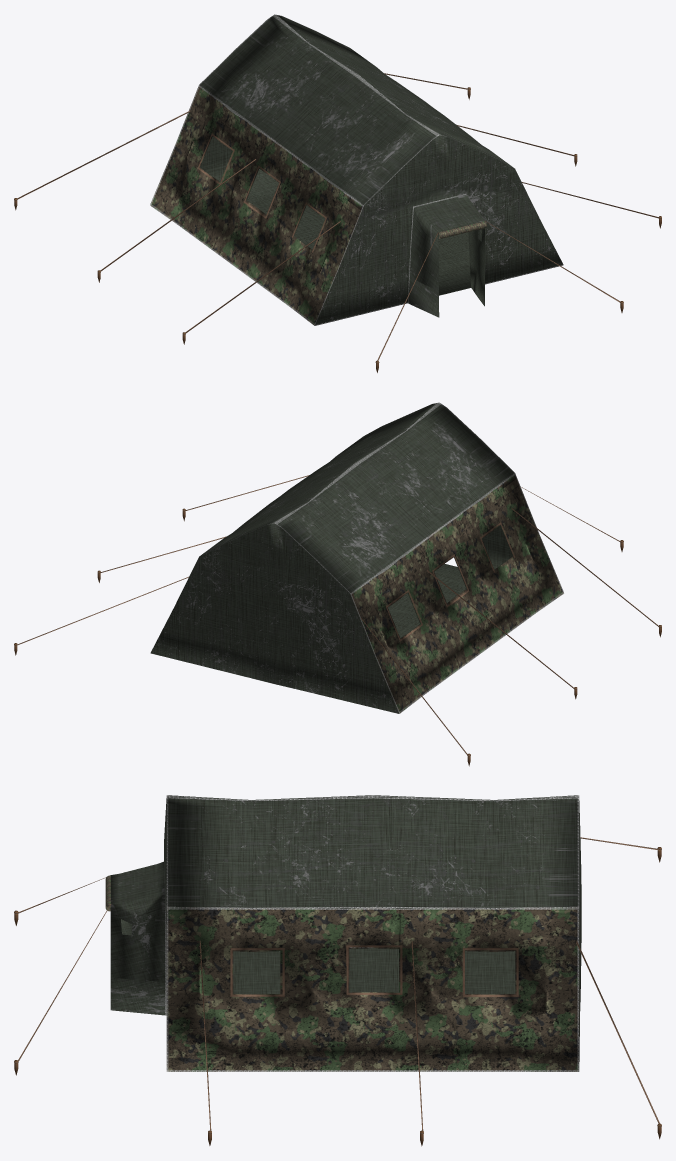
File: military_tent.glb
The picture shows the model from 3 angles, top to bottom: view 1: azimuth 30°, elevation 25°; view 2: azimuth 150°, elevation 25°; view 3: azimuth 270°, elevation 25°; orthographic projection. The views are drawn at different scales.
Parts seen in each view (by area): view 1: Spiral.003, Cylinder.001; view 2: Spiral.003, Cylinder.001; view 3: Spiral.003, Cylinder.001.
Boxes of the visible parts, box(x1,y1,x2,y2) form: Spiral.003: box(150, 14, 563, 325); Cylinder.001: box(14, 73, 661, 372); Spiral.003: box(150, 402, 563, 713); Cylinder.001: box(14, 475, 661, 766); Spiral.003: box(105, 795, 581, 1071); Cylinder.001: box(14, 837, 661, 1146).
Bounding box in the file's own units: 12.13 × 3.98 × 11.34.
7 materials, 7 textured.
